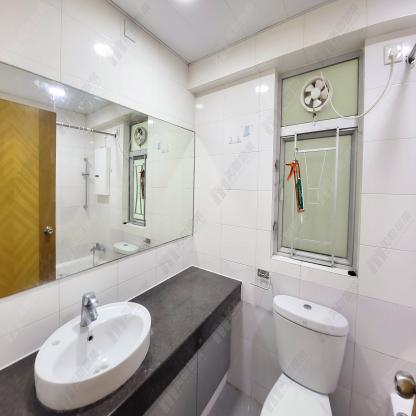Exhaust Fan: (299, 76, 334, 112)
Toilet: (255, 291, 351, 416)
Toilet Sink: (32, 299, 153, 414)
Water Heater: (91, 145, 111, 200)
